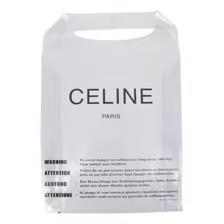CELINE: (69, 88, 153, 104)
